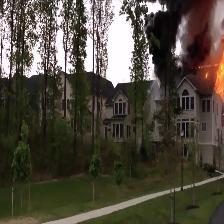smoke: (145, 10, 186, 73), (188, 2, 212, 54)
